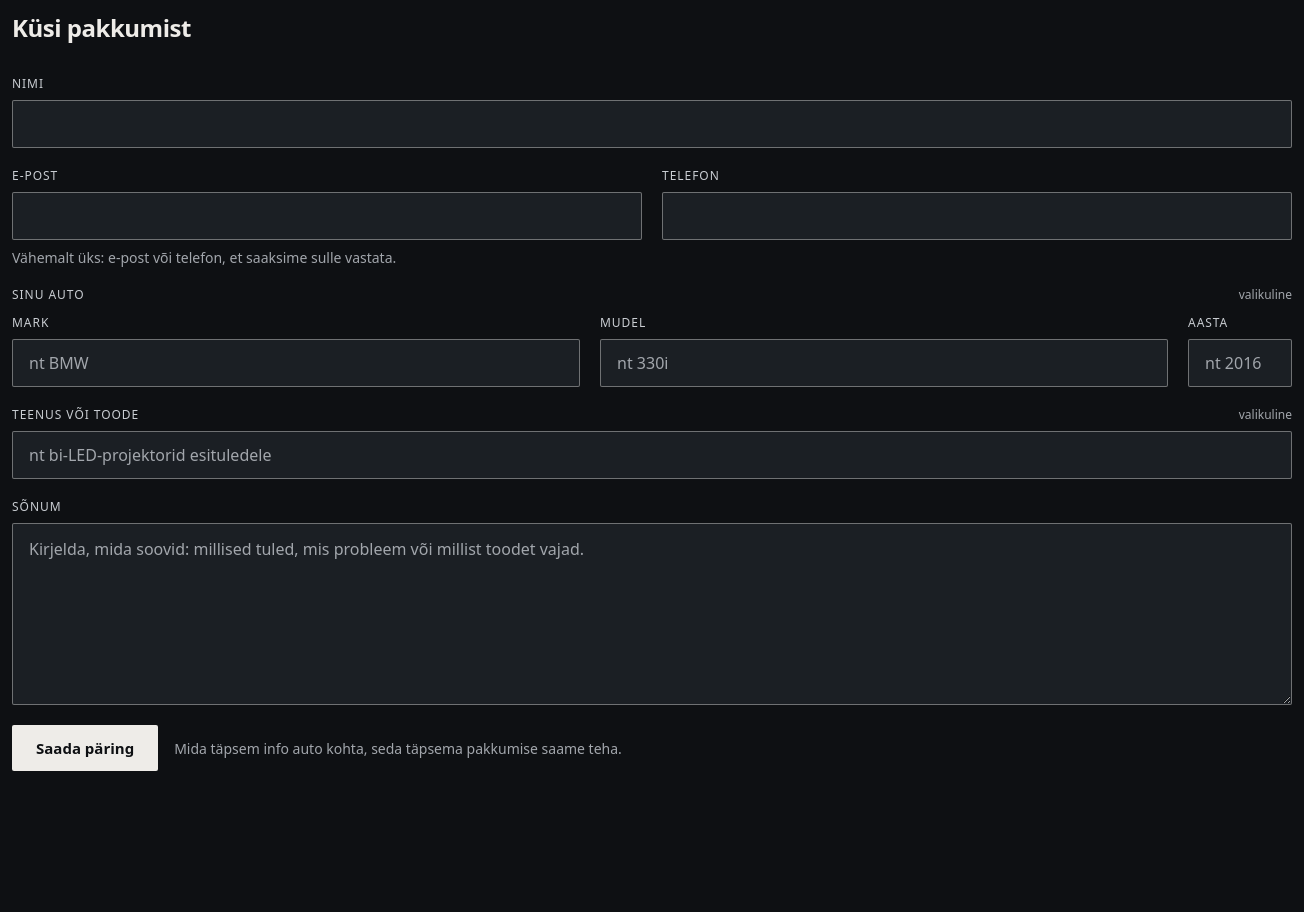
Scenario: InquiryForm › results from the action › replaces the form's title with the success heading and moves focus there
Expected: the heading "Küsi pakkumist" is shown, [12,11,191,44]
Type "Mari Maasikas" into the field labelled "Nimi" at (652, 124), box [12,100,1292,148]
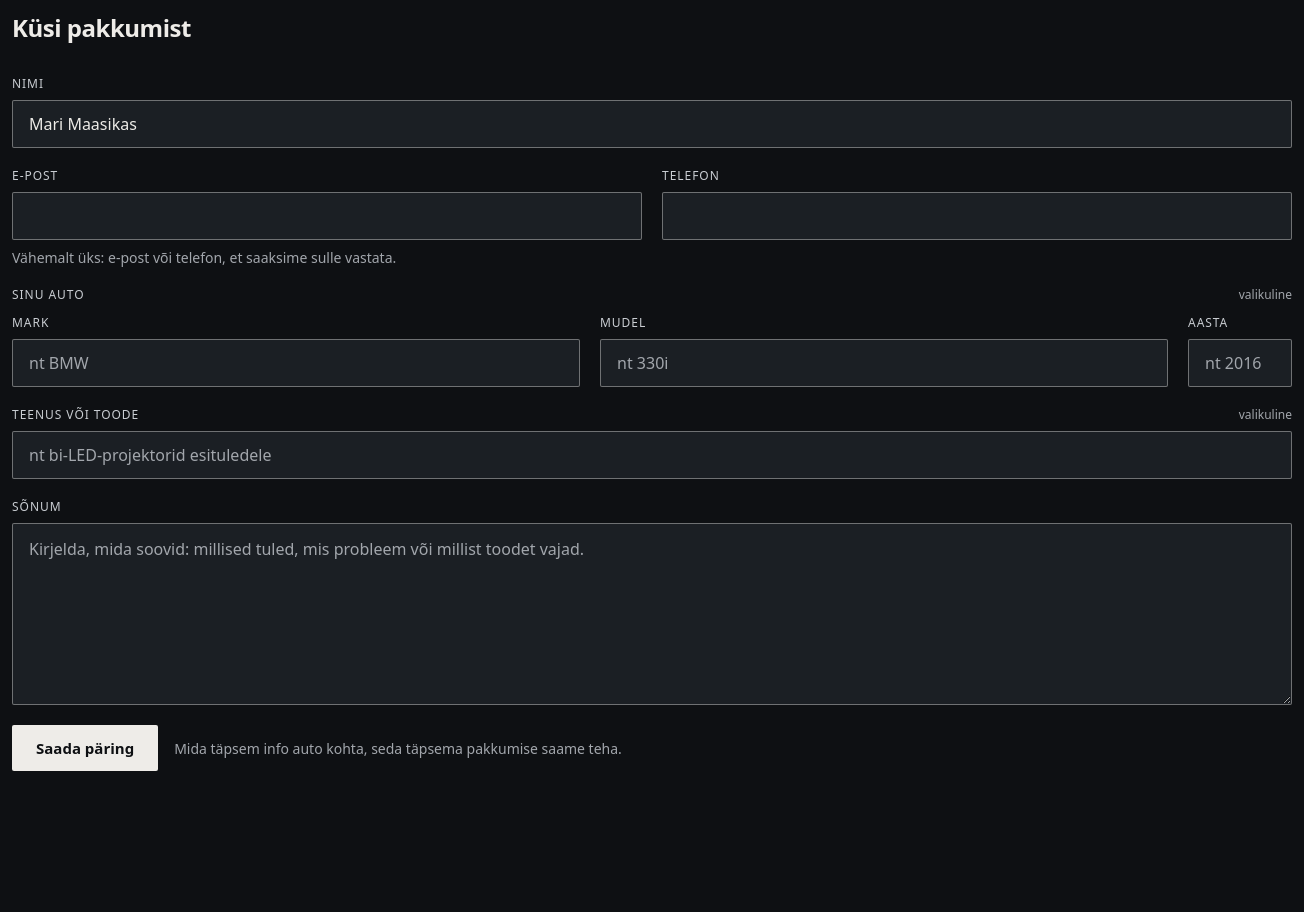
Type "mari@example.com" into the field labelled "E-post" at (327, 216), box [12,192,642,240]
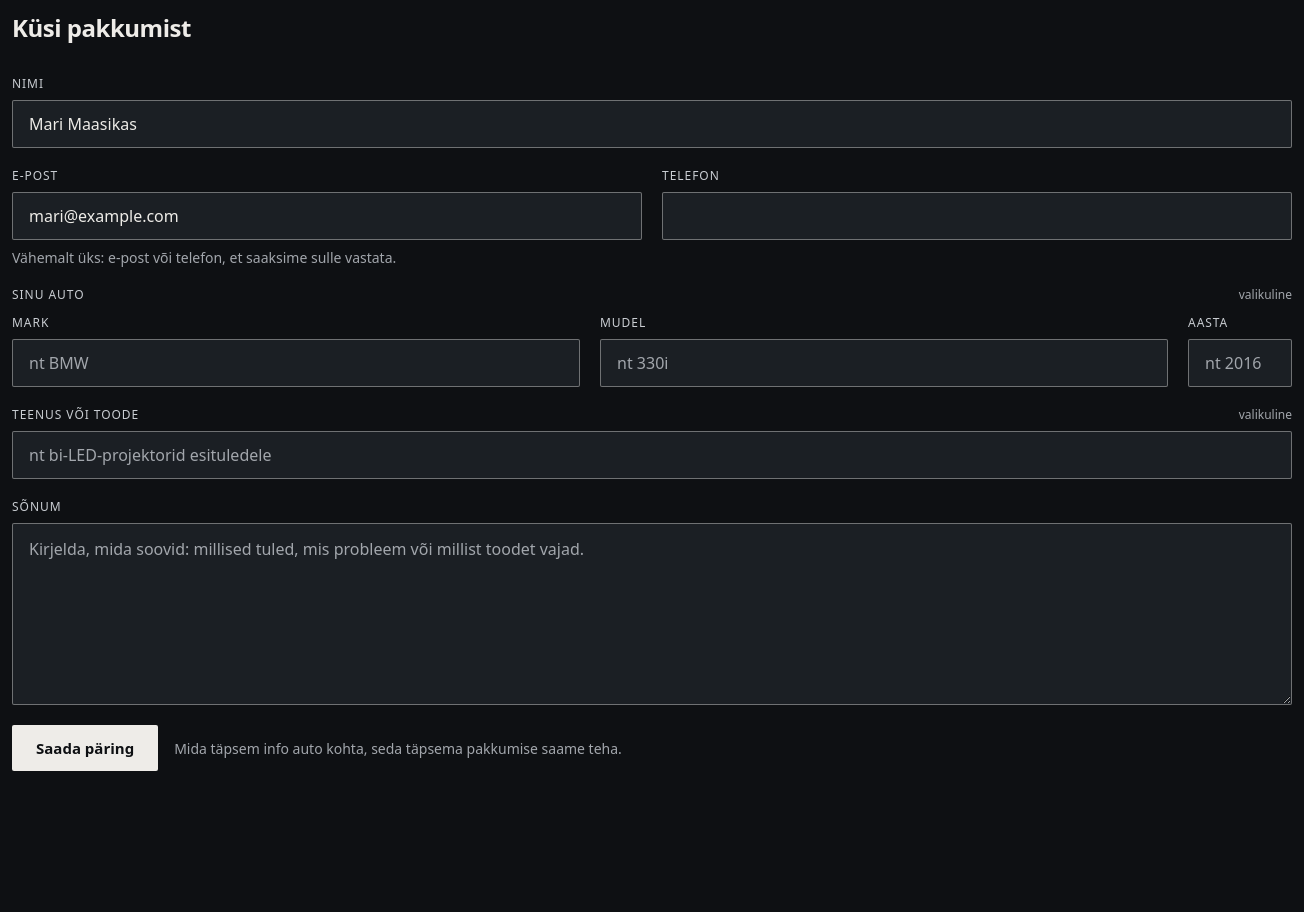
Replace the text in the text box labelled "Sõnum" with "Tahaksin hinnapakkumist." at (652, 614), box [12,523,1292,705]
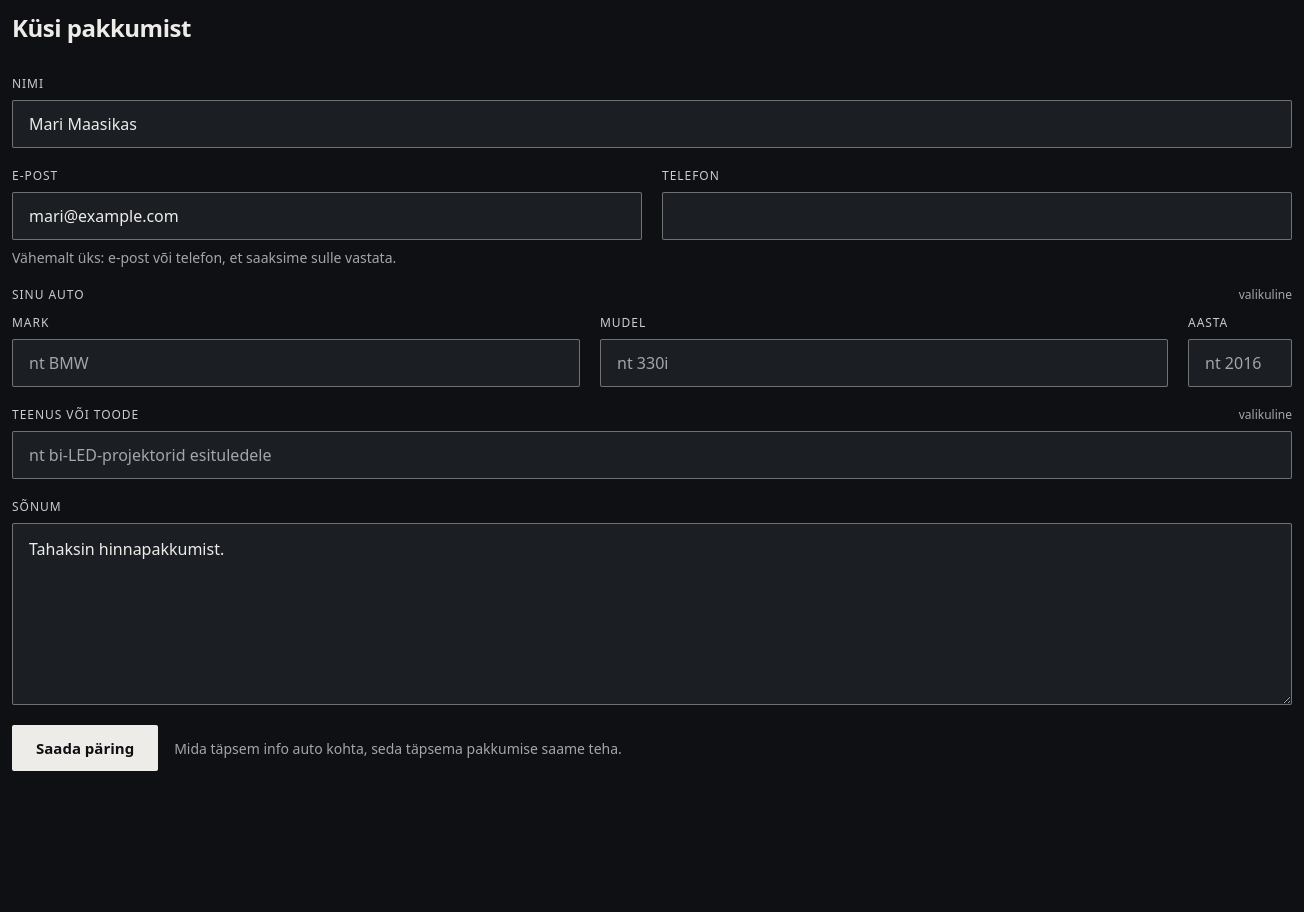
Submit the form
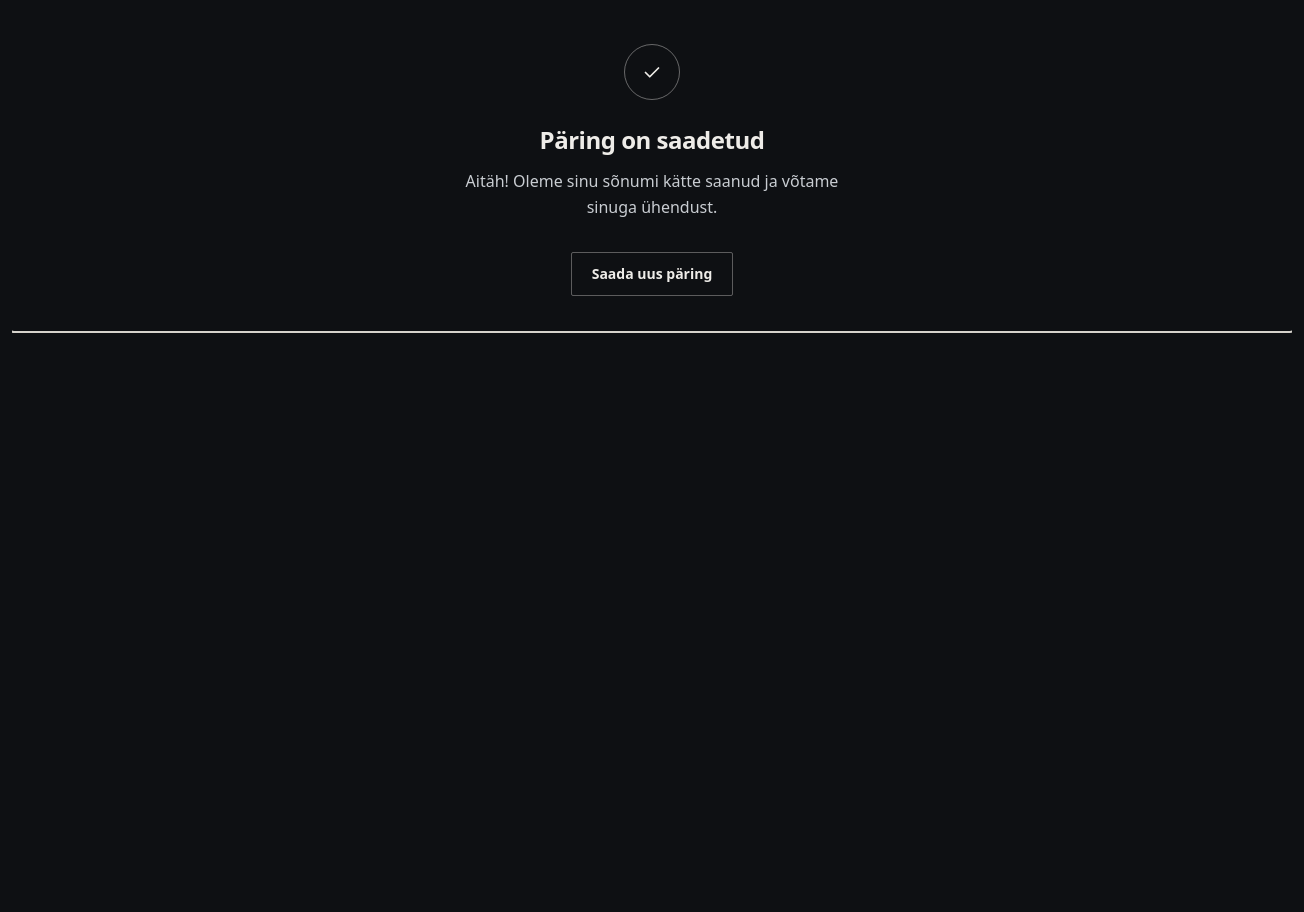
Expected: the heading "Küsi pakkumist" is gone
